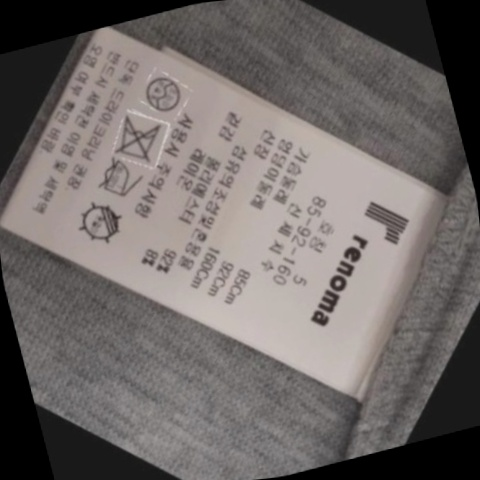DN_wash: (106, 106, 176, 171)
dry_clean_petrol_only: (136, 64, 192, 120)
iron_low: (88, 151, 150, 209)
line_dry_in_shade: (71, 193, 137, 253)
